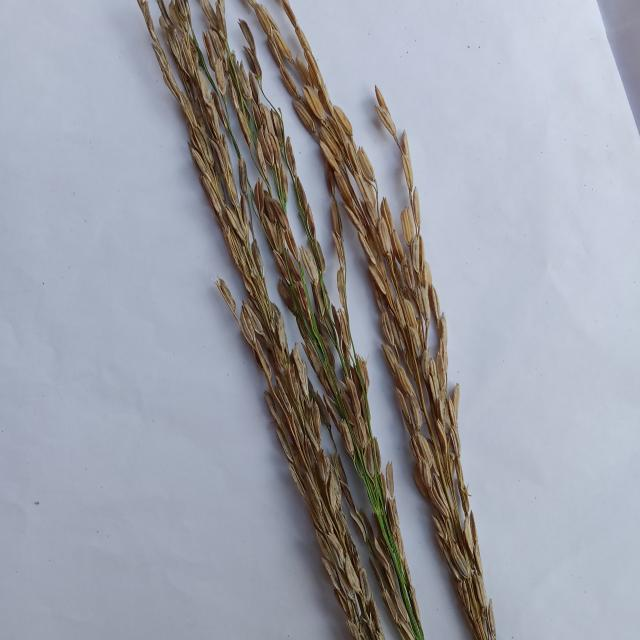Neck_Blast: (209, 0, 496, 634), (116, 1, 385, 640), (225, 44, 393, 449)
